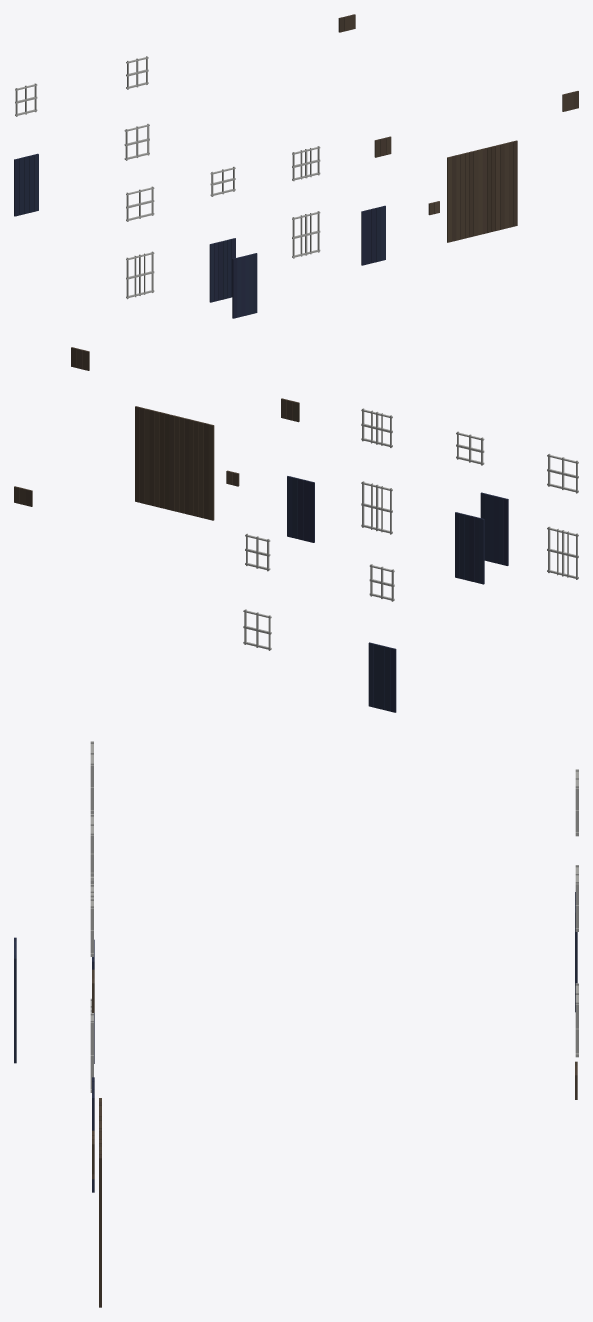
Rendered from SM_Bld_036_Wood.glb.
The picture shows the model from 3 angles, top to bottom: view 1: azimuth 30°, elevation 25°; view 2: azimuth 150°, elevation 25°; view 3: azimuth 270°, elevation 25°; orthographic projection. The views are drawn at different scales.
Visible parts, largest first — view 1: SM_Bld_036_Wood; view 2: SM_Bld_036_Wood; view 3: SM_Bld_036_Wood.
Part boxes in pixels (x1,y1,x2,y2): SM_Bld_036_Wood: (14,14,578,318); SM_Bld_036_Wood: (14,347,578,712); SM_Bld_036_Wood: (14,741,578,1307).
Size of the model in its own units: 16.75 by 4.6 by 10.28.
